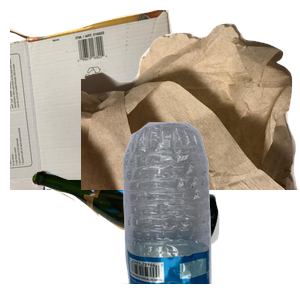cardboard: (10, 10, 191, 190)
glass: (29, 167, 241, 300)
plastic: (111, 120, 300, 300)
trash: (81, 21, 300, 201)
